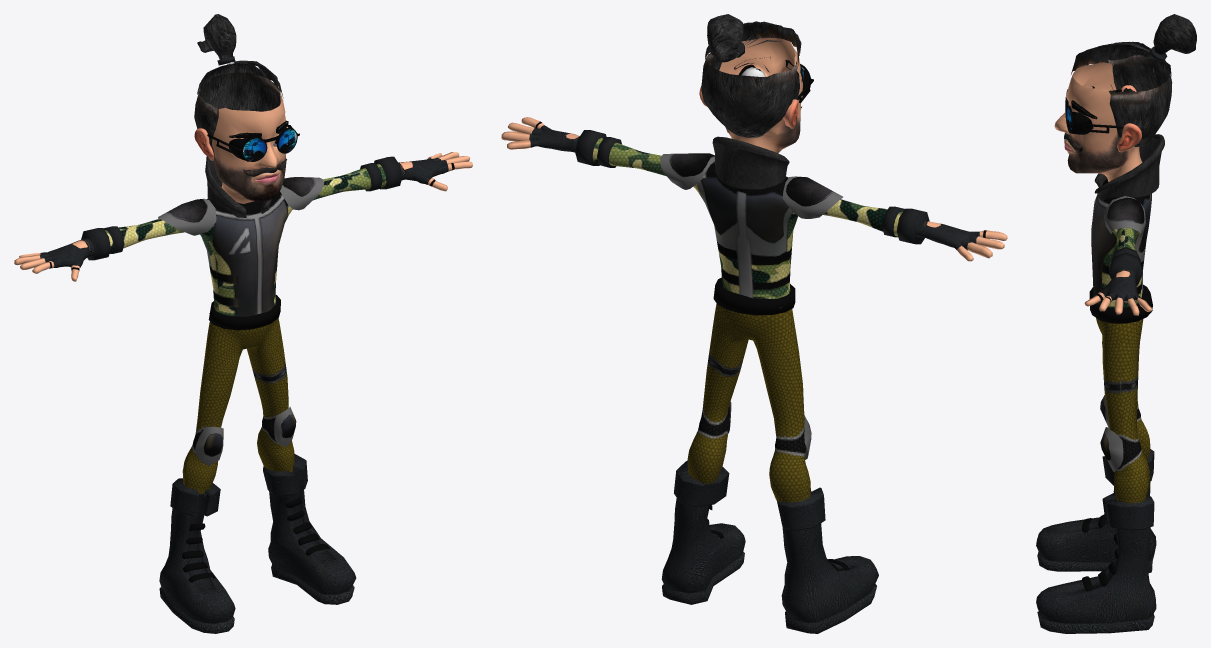
The model's file is Alok-LowRes.fbx.
3 renders of one model, left to right at view 1: azimuth 30°, elevation 25°; view 2: azimuth 150°, elevation 25°; view 3: azimuth 270°, elevation 25°, orthographic. The views are drawn at different scales.
Visible parts, largest first — view 1: Corpo_Cube.002, shoes.003, Rosto.005, Cube.003, mao, PM3D_Plane3D1_7, Cylinder.006, Cylinder.007, PM3D_Plane3D1_14, Cube.001, body_man1_9.001, Cube.002; view 2: Corpo_Cube.002, shoes.003, Cube.003, mao, Rosto.005, PM3D_Plane3D1_7, Cube.002, Cylinder.006, Cylinder.007, body_man1_9.001, Cube.001, Plane; view 3: shoes.003, Corpo_Cube.002, Rosto.005, Cube.003, Cube.002, Cylinder.006, mao, Cube.001, PM3D_Plane3D1_7, Plane, body_man1_9.001, PM3D_Plane3D1_14 (+3 smaller).
Part boxes in pixels (x1,y1,x2,y2): Corpo_Cube.002: (105, 164, 386, 493); shoes.003: (159, 469, 356, 633); Rosto.005: (210, 92, 287, 203); Cube.003: (194, 72, 281, 145); mao: (14, 152, 472, 281); PM3D_Plane3D1_7: (158, 177, 323, 235); Cylinder.006: (170, 453, 307, 516); Cylinder.007: (81, 156, 402, 260); PM3D_Plane3D1_14: (195, 406, 296, 465); Cube.001: (197, 14, 236, 59); body_man1_9.001: (208, 295, 280, 330); Cube.002: (205, 156, 272, 217); Corpo_Cube.002: (592, 138, 902, 502); shoes.003: (661, 491, 878, 633); Cube.003: (701, 53, 799, 137); mao: (501, 117, 1007, 261); Rosto.005: (719, 38, 802, 153); PM3D_Plane3D1_7: (660, 153, 842, 218); Cube.002: (712, 136, 789, 189); Cylinder.006: (674, 461, 825, 530); Cylinder.007: (575, 130, 929, 244); body_man1_9.001: (713, 277, 795, 315); Cube.001: (707, 14, 743, 62); Plane: (705, 21, 801, 72); shoes.003: (1036, 481, 1156, 633); Corpo_Cube.002: (1091, 178, 1151, 503); Rosto.005: (1054, 62, 1142, 181); Cube.003: (1108, 55, 1172, 147); Cube.002: (1094, 134, 1164, 201); Cylinder.006: (1102, 449, 1154, 529); mao: (1084, 267, 1152, 315); Cube.001: (1153, 14, 1196, 54); PM3D_Plane3D1_7: (1104, 196, 1145, 237); Plane: (1071, 41, 1152, 74); body_man1_9.001: (1089, 284, 1152, 323); PM3D_Plane3D1_14: (1100, 395, 1123, 471).
Size of the model in its own units: 1215 by 1434 by 361.
Materials: 23 (20 with a texture image).
